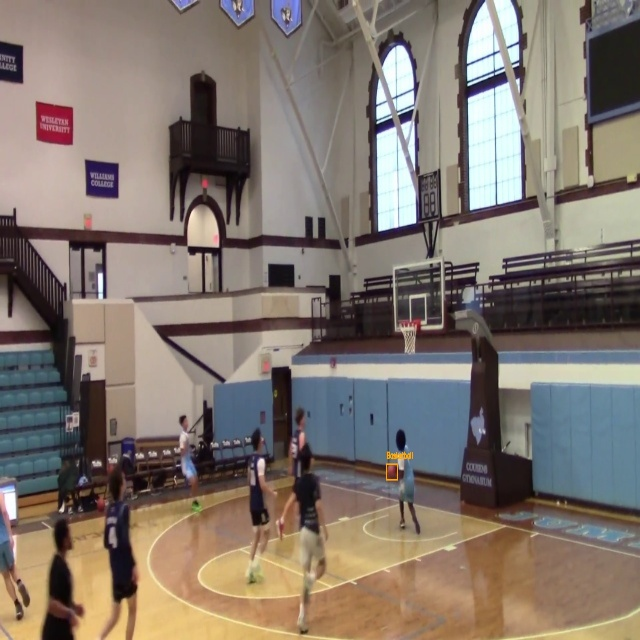Basketball: (387, 464, 397, 480)
